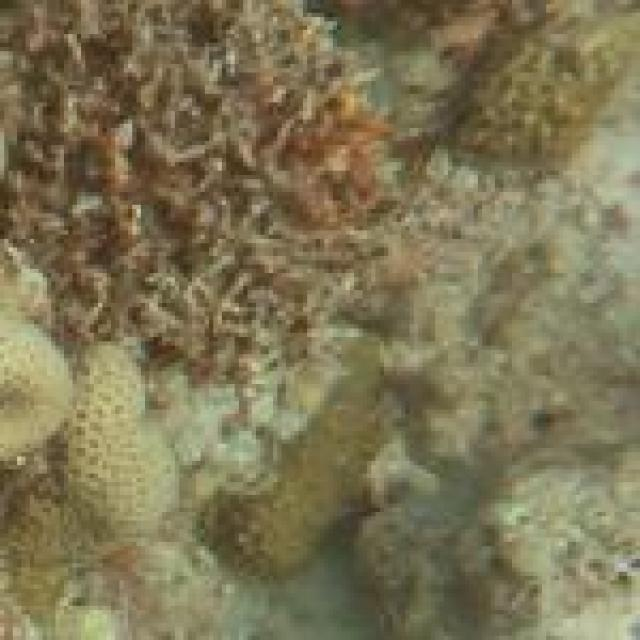Bleached Coral: (0, 323, 196, 582)
